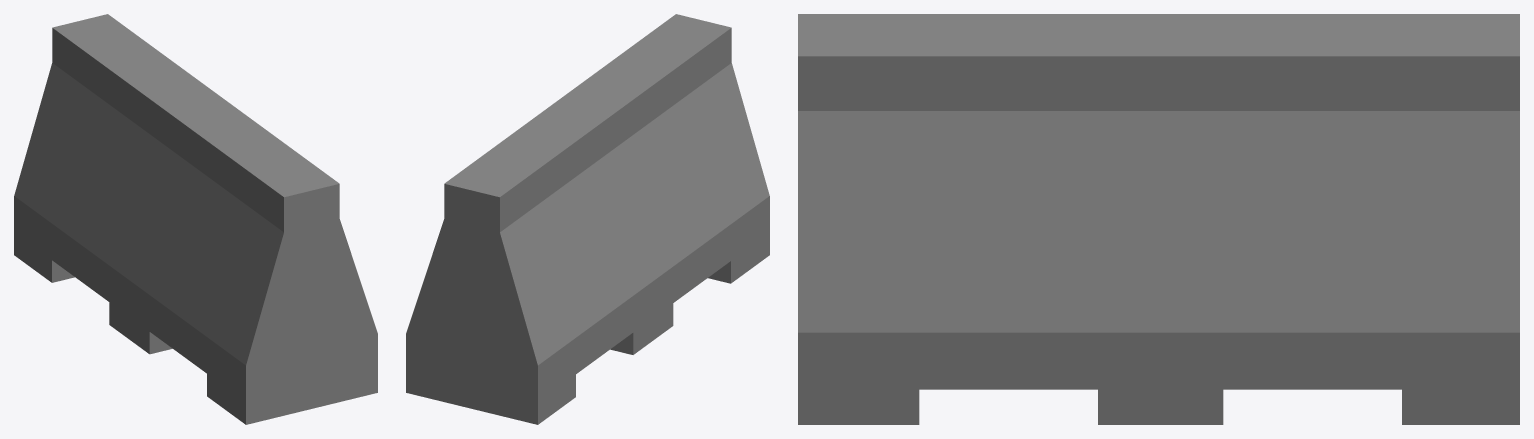
Rendered from Barrier-01.fbx.
3 views of the same model, side by side, from view 1: azimuth 30°, elevation 25°; view 2: azimuth 150°, elevation 25°; view 3: azimuth 270°, elevation 25° (orthographic). The views are drawn at different scales.
Parts seen in each view (by area): view 1: Barrier; view 2: Barrier; view 3: Barrier.
Boxes of the visible parts, box(x1,y1,x2,y2) form: Barrier: box(14, 14, 377, 424); Barrier: box(406, 14, 769, 424); Barrier: box(798, 14, 1519, 424).
Size of what is drawn, in the model's own units: 0.6562 by 1.04 by 2.
